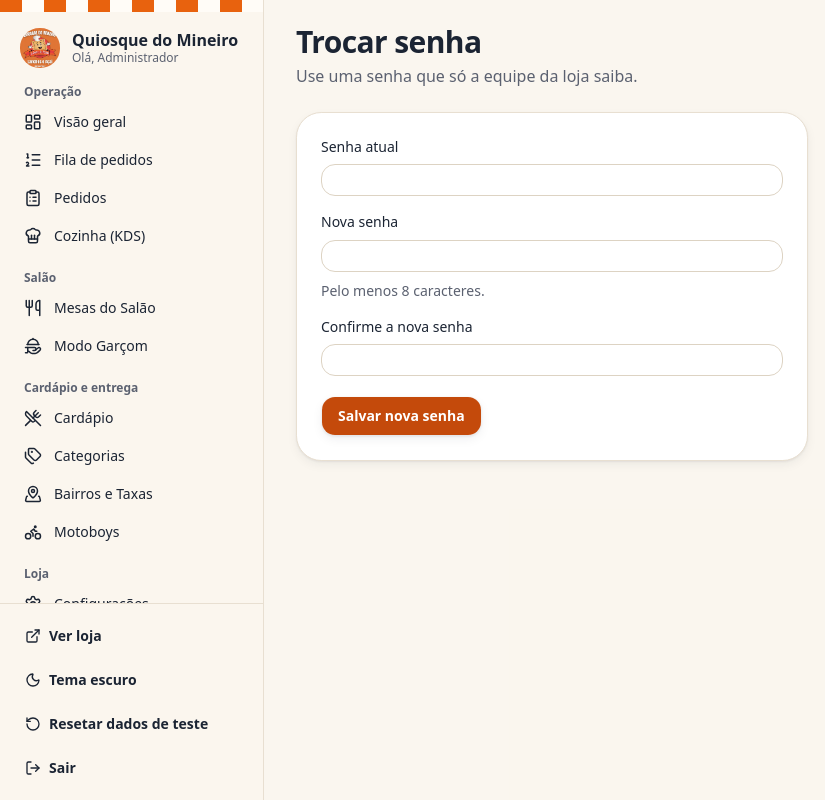
Trocar senha › senha atual errada
The image size is (825, 800).
In the password field labelled "Senha atual": (552, 180) [321,164,783,196], type "errada"
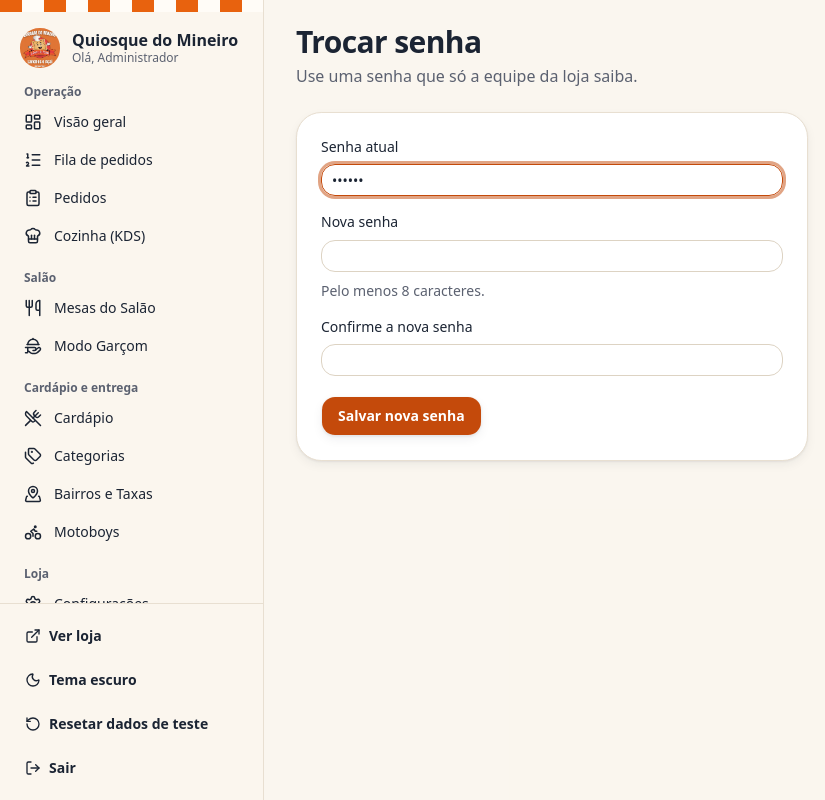
In the password field labelled "Nova senha": (552, 256) [321,240,783,272], type "novasenha123"
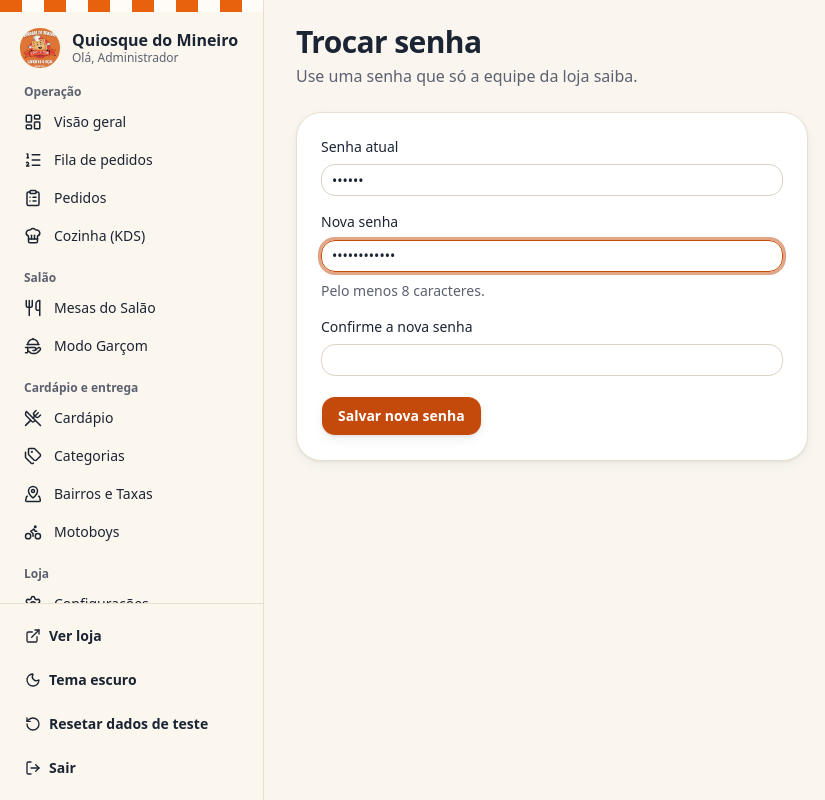
In the password field labelled "Confirme a nova senha": (552, 360) [321,344,783,376], type "novasenha123"
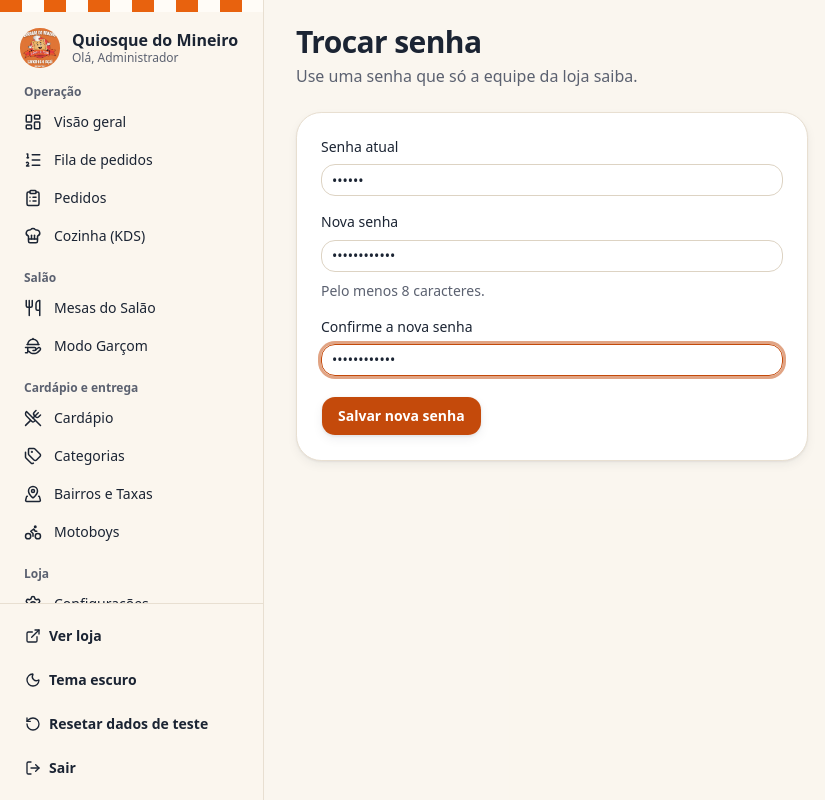
Click the button "Salvar nova senha": (401, 416) [321,396,482,436]
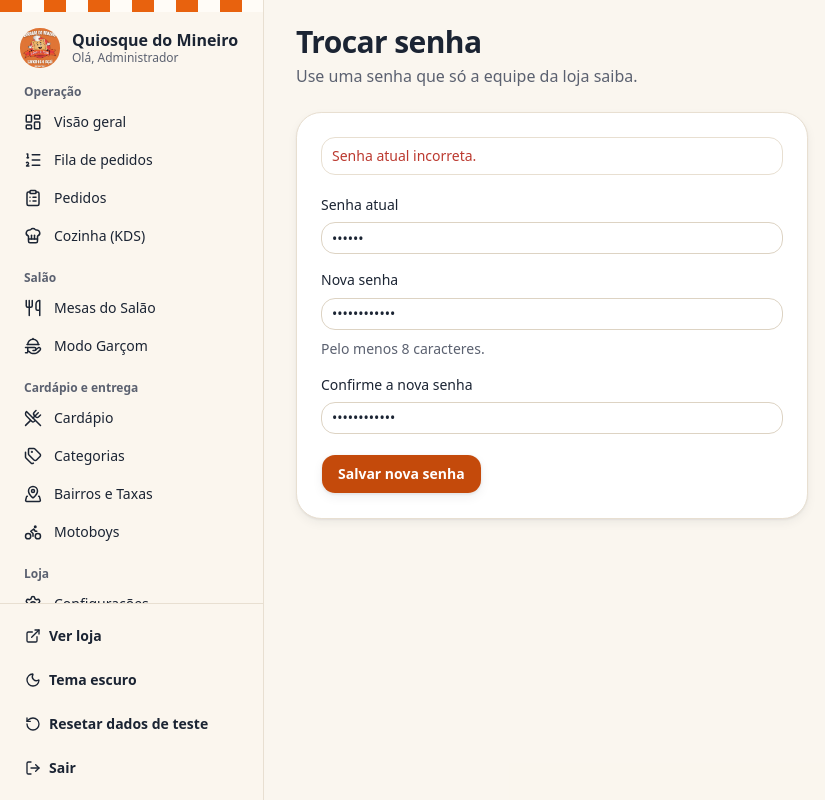
Now the message reads "Senha atual incorreta.", box [332,146,476,165]
